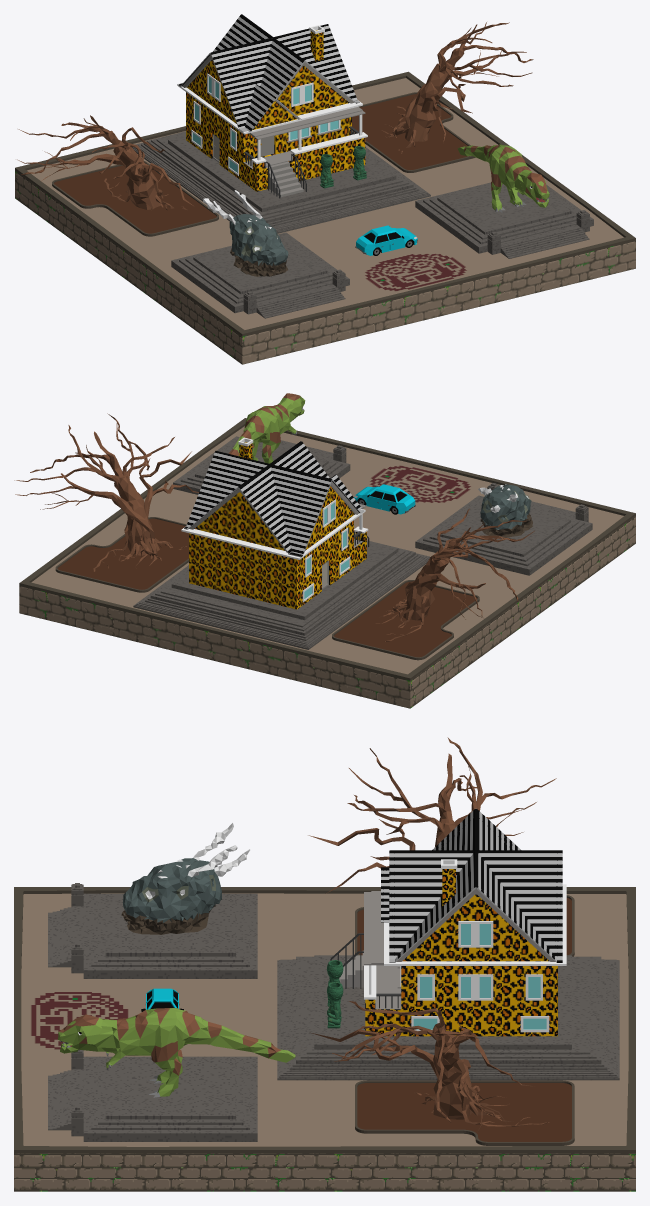
3 renders of one model, top to bottom at view 1: azimuth 30°, elevation 25°; view 2: azimuth 150°, elevation 25°; view 3: azimuth 270°, elevation 25°, orthographic. The views are drawn at different scales.
Visible parts, largest first — view 1: Cube.011, Cube.637, OBJRANDOM_METEORITE, ANIMAL_TREX, VEHICLES_CAR; view 2: Cube.011, Cube.637, ANIMAL_TREX, OBJRANDOM_METEORITE, VEHICLES_CAR; view 3: Cube.011, Cube.637, ANIMAL_TREX, OBJRANDOM_METEORITE, VEHICLES_CAR.
Boxes of the visible parts, x1,y1,x2,y2 form: Cube.011: (15,22,635,364); Cube.637: (177,14,367,198); OBJRANDOM_METEORITE: (203,190,288,276); ANIMAL_TREX: (457,144,549,212); VEHICLES_CAR: (355,225,417,255); Cube.011: (14,413,635,708); Cube.637: (181,437,369,609); ANIMAL_TREX: (228,393,305,463); OBJRANDOM_METEORITE: (478,484,532,537); VEHICLES_CAR: (354,484,415,514); Cube.011: (14,737,635,1191); Cube.637: (330,808,566,1036); ANIMAL_TREX: (58,1008,295,1097); OBJRANDOM_METEORITE: (121,823,249,934); VEHICLES_CAR: (141,988,183,1011).
Bounding box in the file's own units: 5099 × 1638 × 4000.
Materials: 39 (6 with a texture image).
